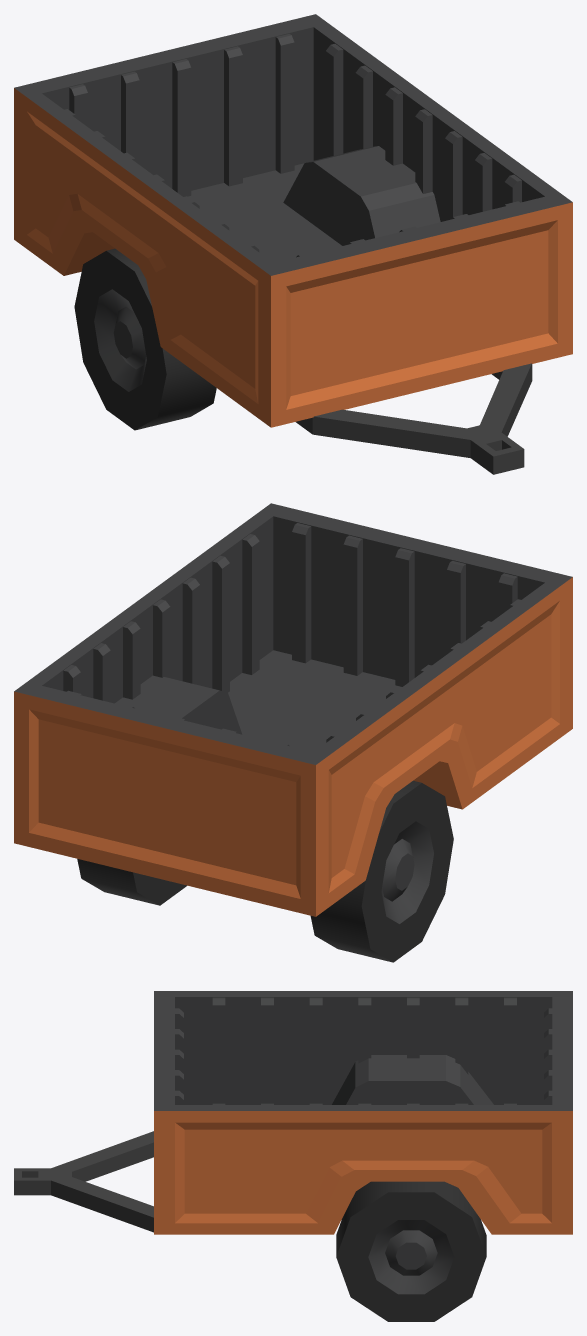
File: Trailer_4.fbx
3 views of the same model, one above another, from view 1: azimuth 30°, elevation 25°; view 2: azimuth 150°, elevation 25°; view 3: azimuth 270°, elevation 25° (orthographic). The views are drawn at different scales.
Visible parts, largest first — view 1: Trailer_4; view 2: Trailer_4; view 3: Trailer_4.
Part boxes in pixels (x1=…): Trailer_4: x1=14, y1=14, x2=572, y2=474; Trailer_4: x1=14, y1=503, x2=572, y2=962; Trailer_4: x1=14, y1=991, x2=572, y2=1321.
Bounding box in the file's own units: 56.22 × 46.54 × 111.
